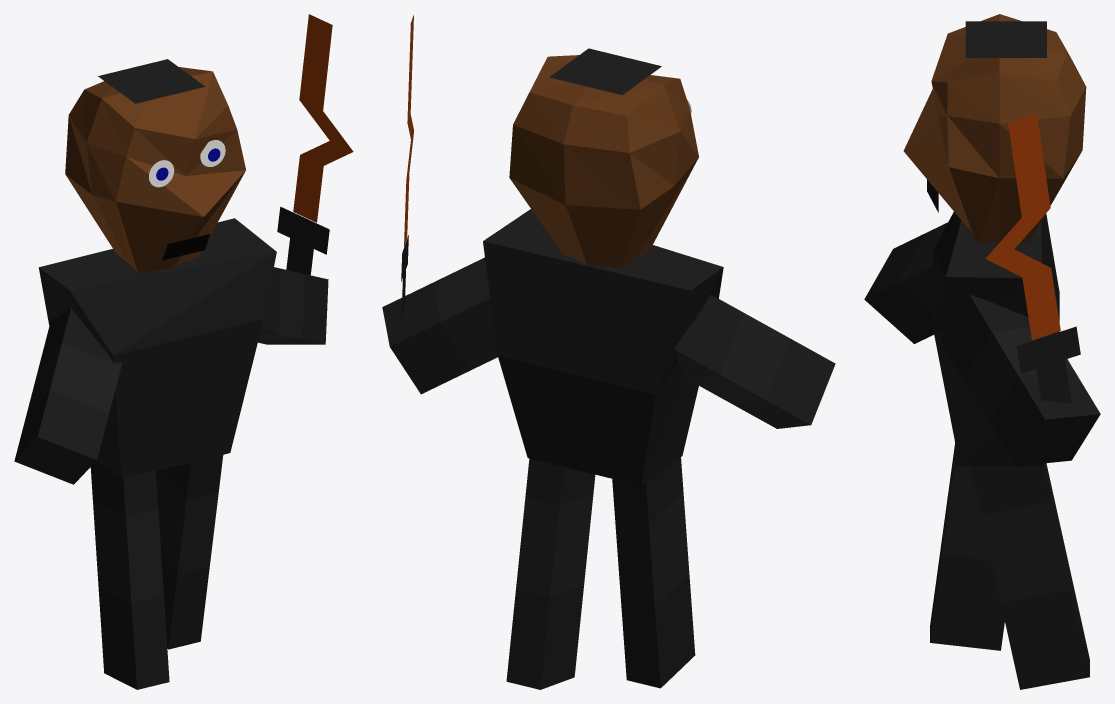
Rendered from swordsman3f.obj.
3 renders of one model, left to right at view 1: azimuth 30°, elevation 25°; view 2: azimuth 150°, elevation 25°; view 3: azimuth 270°, elevation 25°, orthographic. The views are drawn at different scales.
Visible parts, largest first — view 1: Cube.001, Cube, Cube.004, Cube.003, Cube.005, Plane.003_Plane.004, Cube.002, Plane.004_Plane.001, Plane.002_Plane.003, Plane.001_Plane.002, Plane; view 2: Cube.001, Cube, Cube.005, Cube.004, Cube.003, Cube.002, Plane.004_Plane.001, Plane.003_Plane.004; view 3: Cube, Cube.005, Cube.002, Cube.001, Cube.004, Plane.003_Plane.004, Cube.003, Plane.004_Plane.001, Plane.002_Plane.003, Plane.001_Plane.002.
Part boxes in pixels (x1,y1,x2,y2): Cube.001: [38, 218, 276, 479]; Cube: [65, 67, 245, 272]; Cube.004: [90, 461, 169, 689]; Cube.003: [14, 308, 122, 484]; Cube.005: [156, 455, 223, 649]; Plane.003_Plane.004: [293, 14, 353, 222]; Cube.002: [258, 267, 328, 344]; Plane.004_Plane.001: [98, 59, 205, 103]; Plane.002_Plane.003: [277, 206, 329, 254]; Plane.001_Plane.002: [286, 234, 314, 275]; Plane: [162, 234, 209, 260]; Cube.001: [483, 209, 723, 485]; Cube: [509, 55, 698, 267]; Cube.005: [506, 458, 595, 689]; Cube.004: [612, 457, 695, 688]; Cube.003: [674, 294, 835, 428]; Cube.002: [382, 257, 497, 394]; Plane.004_Plane.001: [549, 48, 661, 95]; Plane.003_Plane.004: [404, 15, 413, 246]; Cube: [903, 14, 1086, 243]; Cube.005: [970, 463, 1089, 689]; Cube.002: [941, 294, 1100, 466]; Cube.001: [933, 212, 1059, 466]; Cube.004: [930, 443, 1004, 650]; Plane.003_Plane.004: [985, 113, 1060, 340]; Cube.003: [864, 222, 947, 343]; Plane.004_Plane.001: [965, 21, 1046, 57]; Plane.002_Plane.003: [1016, 326, 1080, 373]; Plane.001_Plane.002: [1036, 360, 1071, 403].
Bounding box in the file's own units: 3.86 × 6.06 × 2.04.
